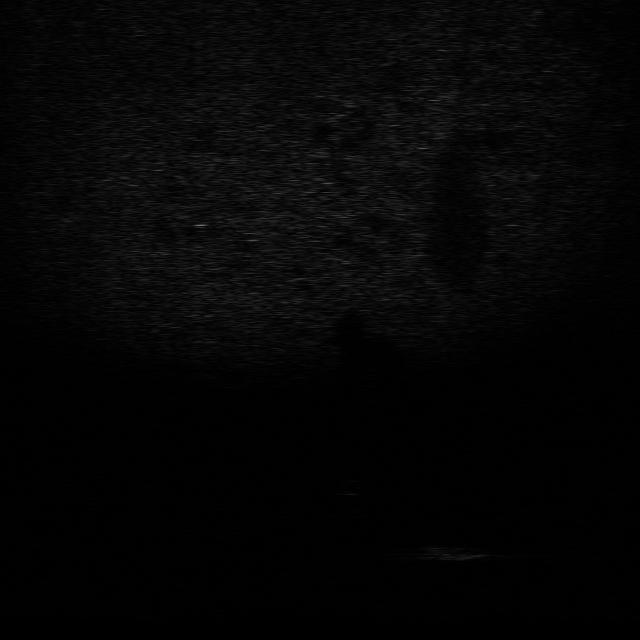ball: (332, 474, 372, 499)
metal bucket: (412, 542, 497, 567)
tyre: (360, 534, 414, 564)
